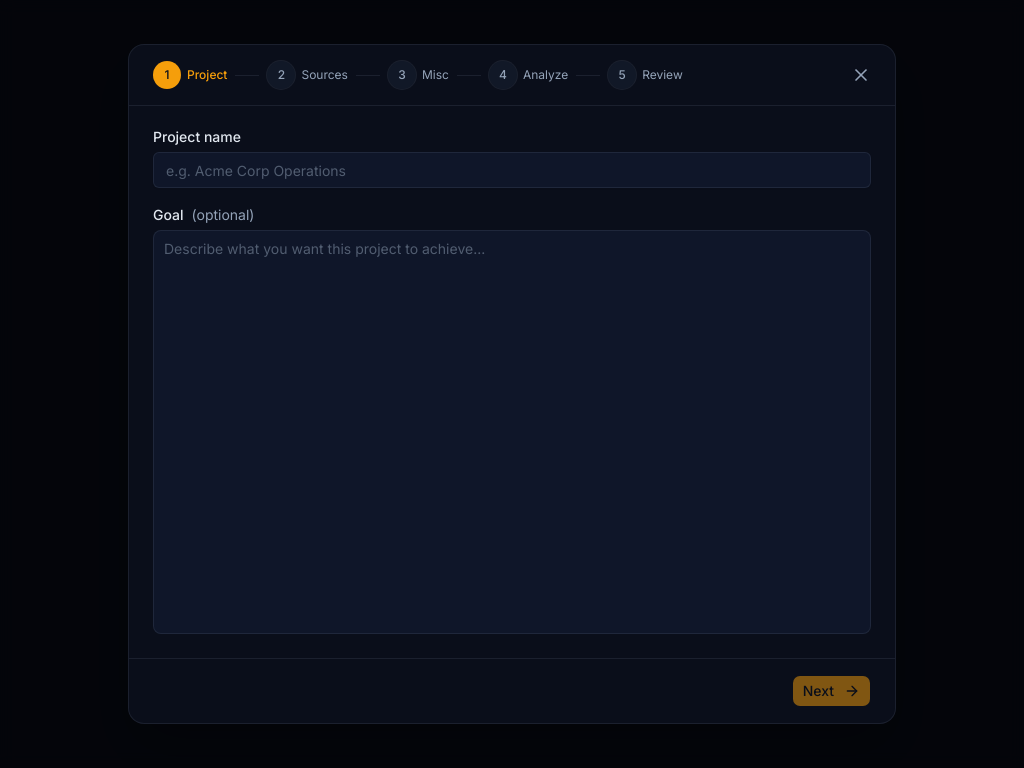
Test: CreateProjectWizard › Step 1 - Project › shows error when project creation fails
The image size is (1024, 768).
Type "My Project" into the field labelled "Project name" at (512, 170), box left=153, top=152, right=871, bottom=188
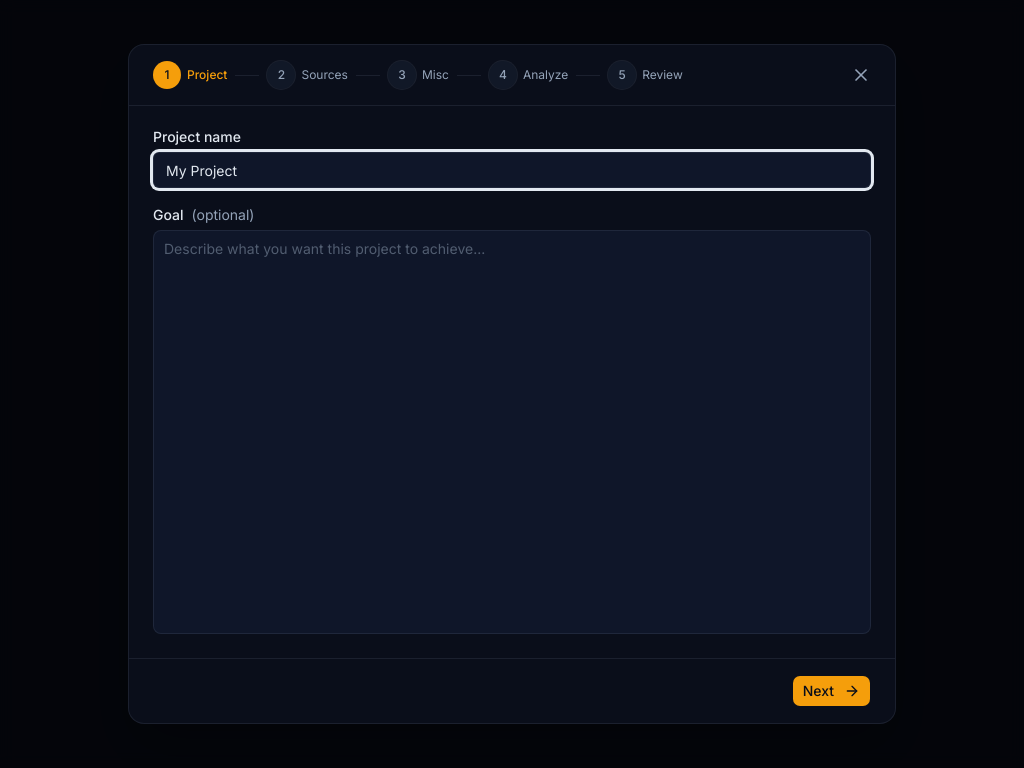
Click the button "Next" at (831, 691), box left=792, top=675, right=871, bottom=707
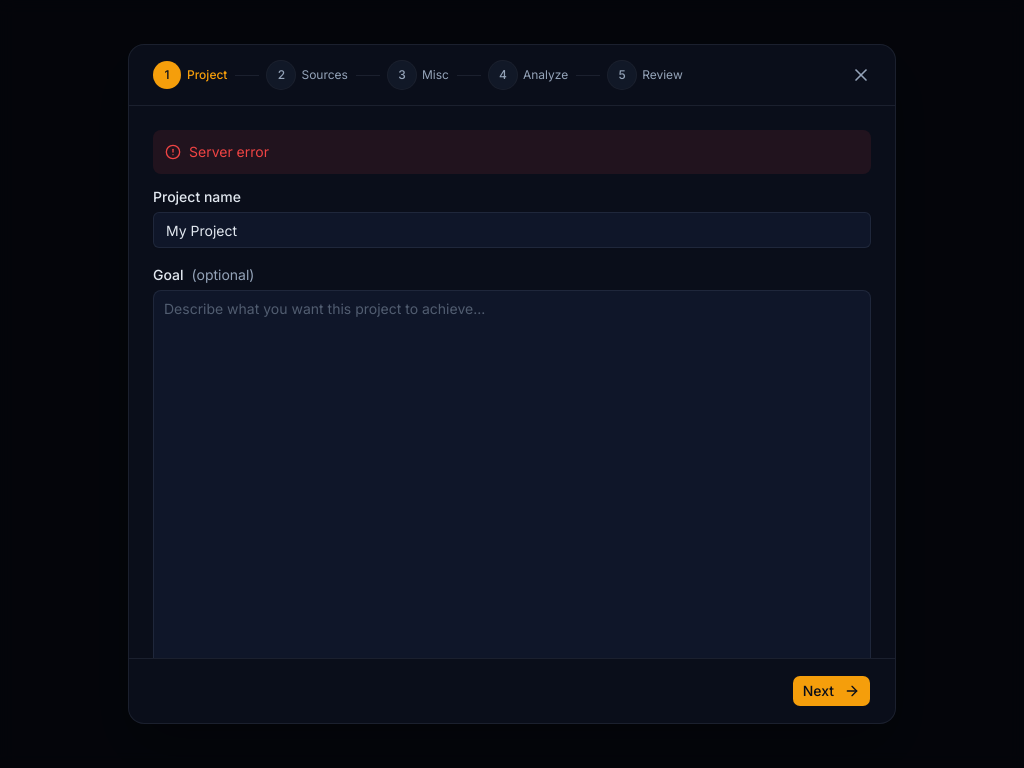
Expected: the text "Server error" is shown, left=189, top=142, right=269, bottom=162
